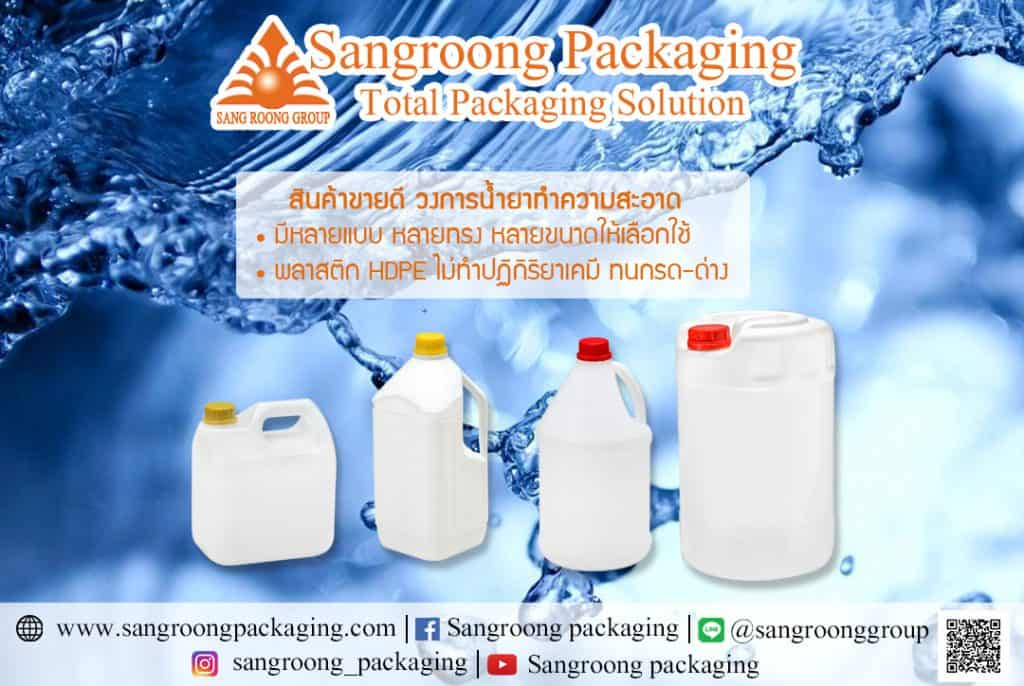Cleaning_solution: (669, 304, 844, 587), (362, 327, 502, 569), (531, 336, 657, 574), (185, 392, 342, 574)
